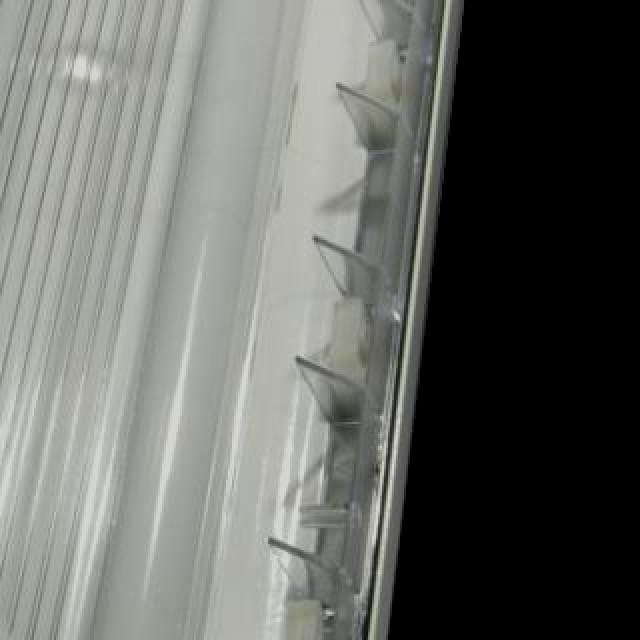fluorescent tube: (12, 0, 446, 640), (0, 0, 84, 640)
